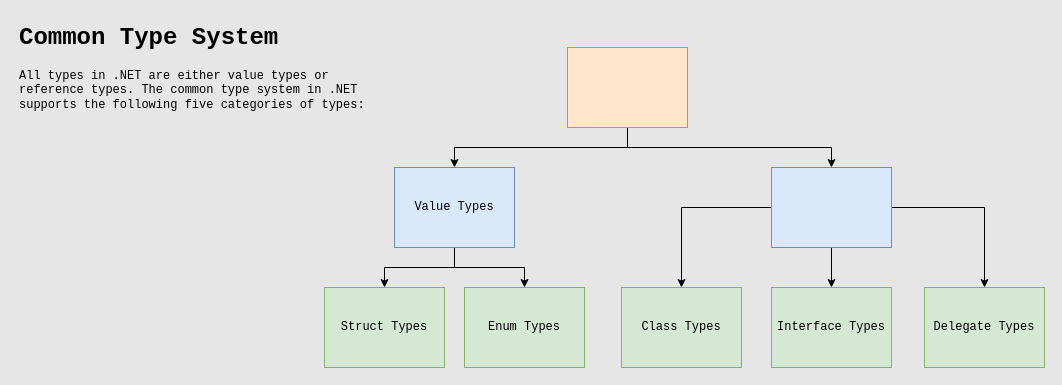
Image size: 1062x385. Some labels were removed from this diagram. Each missing label, with the centre of its shape:
"Data Types" belongs at point (627, 87).
"Reference Types" belongs at point (831, 207).
